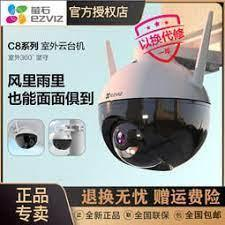maru: (97, 52, 214, 175)
